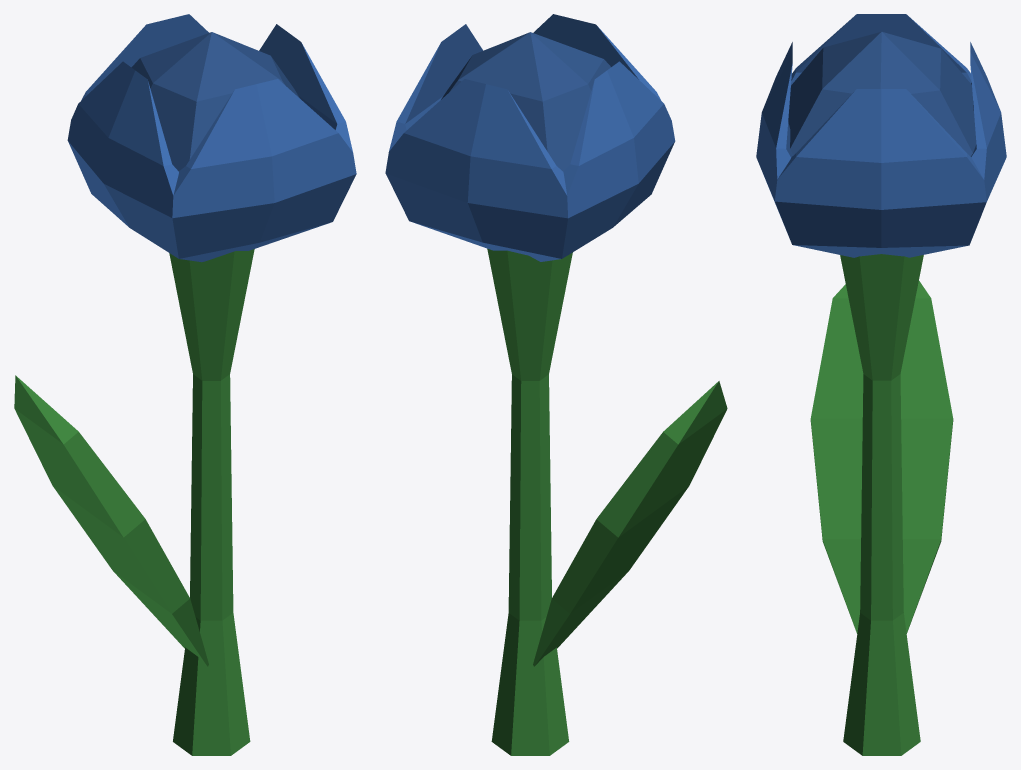
File: Flower_3_Blue.fbx
3 renders of one model, left to right at view 1: azimuth 30°, elevation 25°; view 2: azimuth 150°, elevation 25°; view 3: azimuth 270°, elevation 25°, orthographic.
Parts seen in each view (by area): view 1: Flower_3_Blue_Part_2, Flower_3_Blue_Part_1, Flower_3_Blue_Part_3; view 2: Flower_3_Blue_Part_2, Flower_3_Blue_Part_1, Flower_3_Blue_Part_3; view 3: Flower_3_Blue_Part_1, Flower_3_Blue_Part_2, Flower_3_Blue_Part_3.
Boxes of the visible parts, x1,y1,x2,y2 form: Flower_3_Blue_Part_2: [67, 14, 356, 262]; Flower_3_Blue_Part_1: [14, 249, 254, 755]; Flower_3_Blue_Part_3: [131, 32, 299, 171]; Flower_3_Blue_Part_2: [385, 14, 675, 261]; Flower_3_Blue_Part_1: [487, 248, 727, 755]; Flower_3_Blue_Part_3: [441, 32, 610, 171]; Flower_3_Blue_Part_1: [810, 254, 953, 755]; Flower_3_Blue_Part_2: [756, 14, 1006, 257]; Flower_3_Blue_Part_3: [788, 31, 976, 156].
Bounding box in the file's own units: 24.43 × 55 × 17.59.
